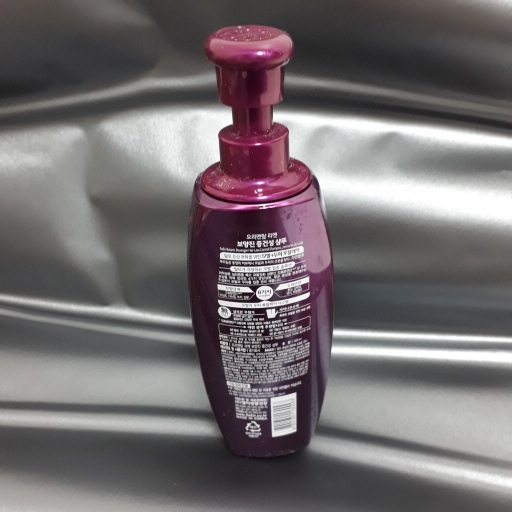Plastic_3: (189, 23, 337, 457)
